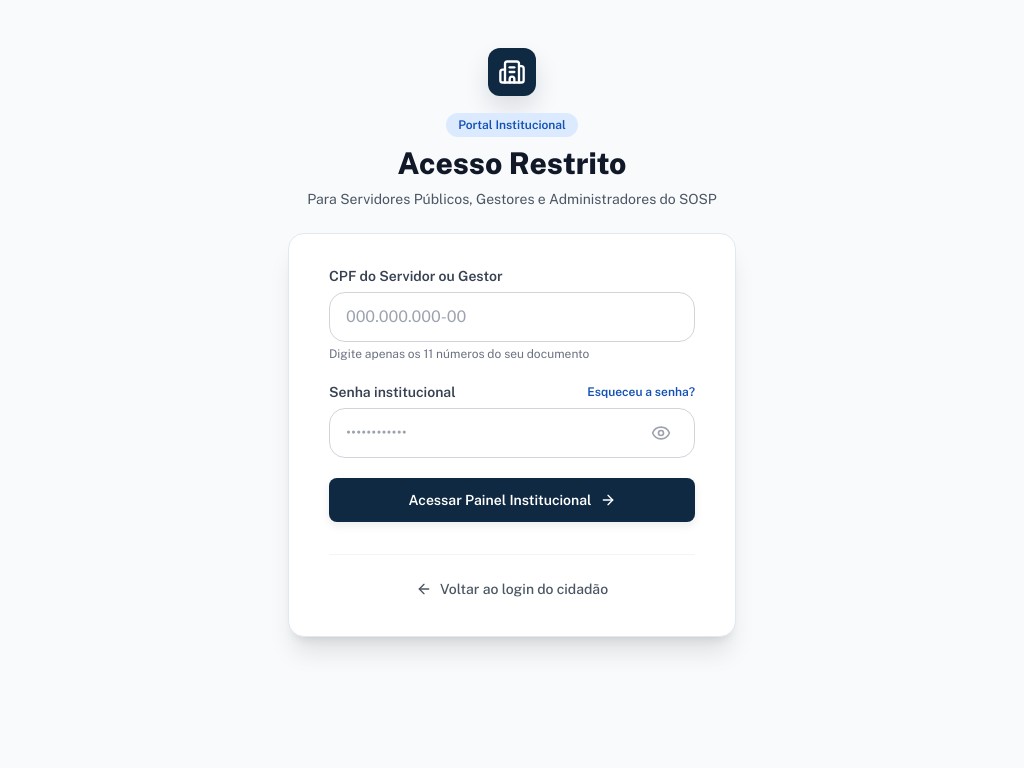
Login Institucional (ADR-003, RN-35, RN-36) › deve interceptar primeiro acesso com mustChangePassword=true e exibir fluxo de definição de nova senha
In the field labelled "CPF do Servidor ou Gestor": (512,317) x1=329 y1=292 x2=695 y2=342, type "333.666.999-57"
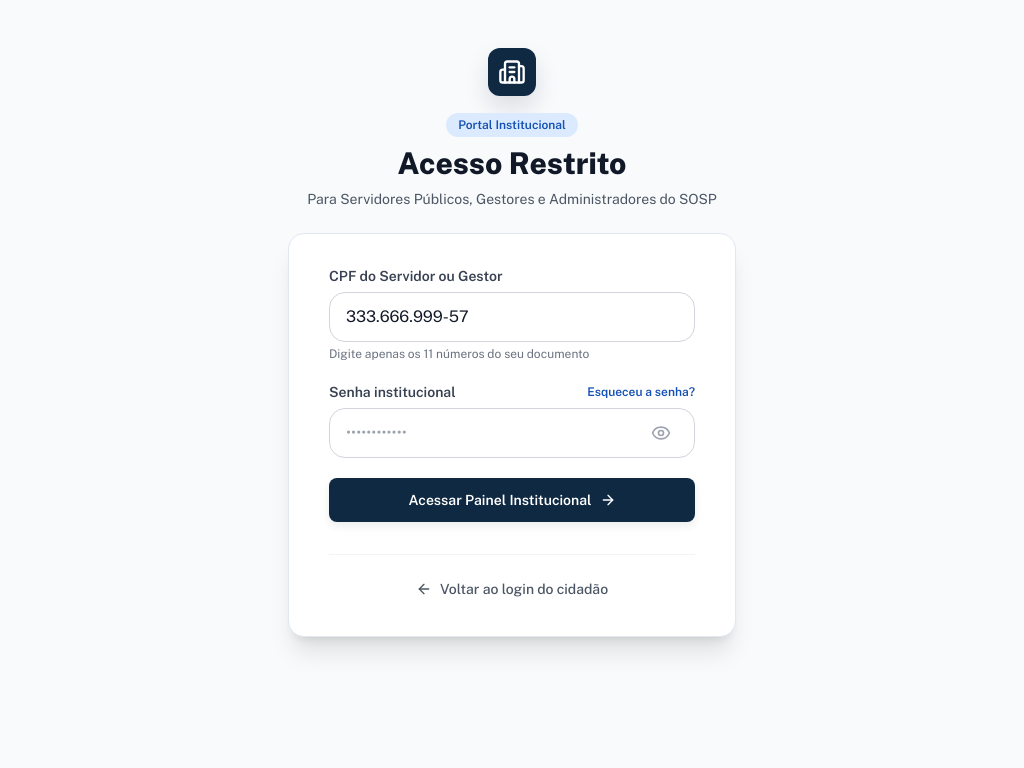
In the password field labelled "Senha institucional": (512,433) x1=329 y1=408 x2=695 y2=458, type "TempSecret@123"
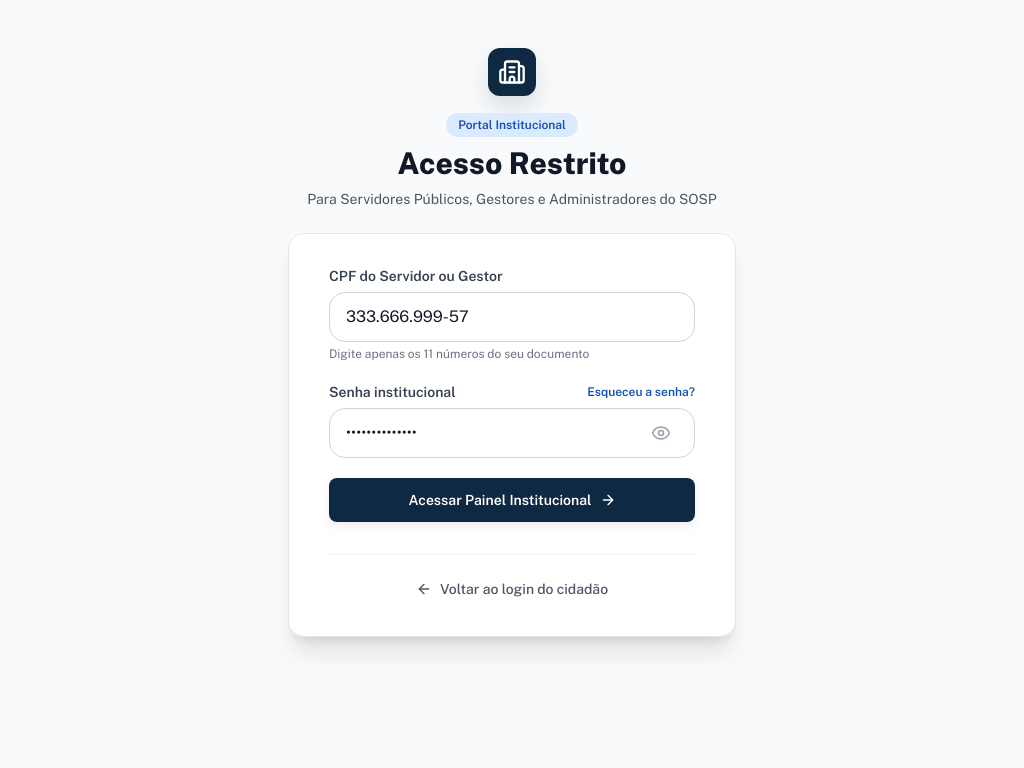
Click the button "Acessar Painel Institucional": (512,500) x1=329 y1=478 x2=695 y2=522
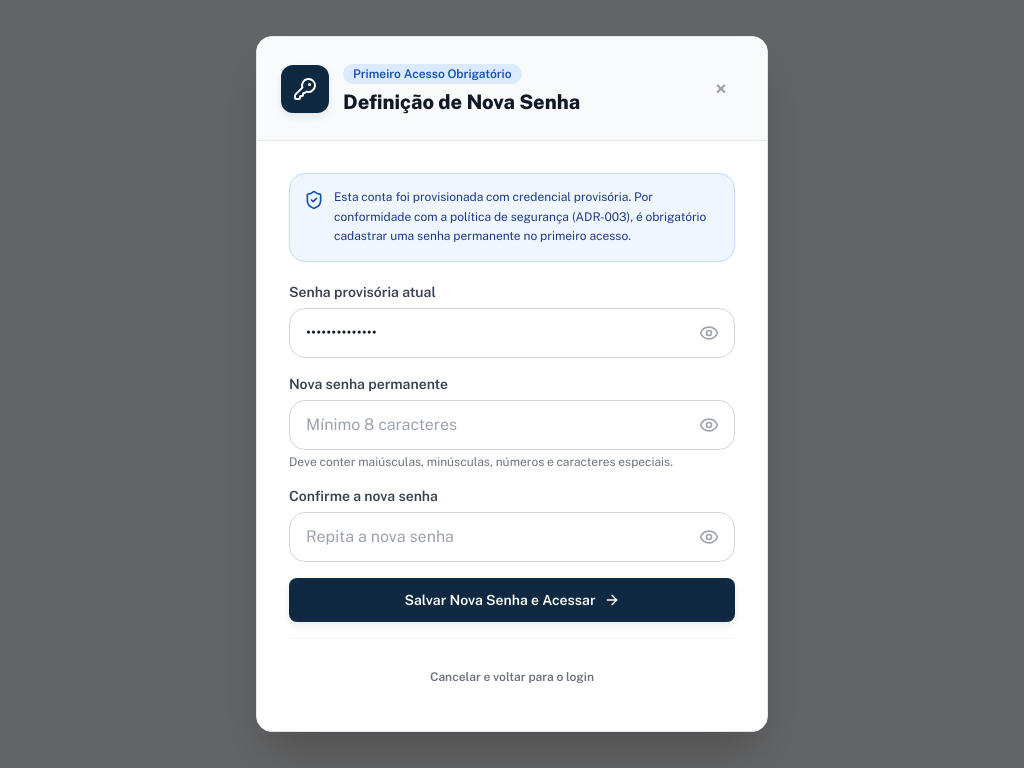
Result: the text "Primeiro Acesso Obrigatório" is shown at x1=343 y1=64 x2=522 y2=84
Result: the heading "Definição de Nova Senha" is shown at x1=343 y1=88 x2=580 y2=116
Result: the password field labelled "Senha provisória atual" is shown at x1=289 y1=308 x2=735 y2=358
